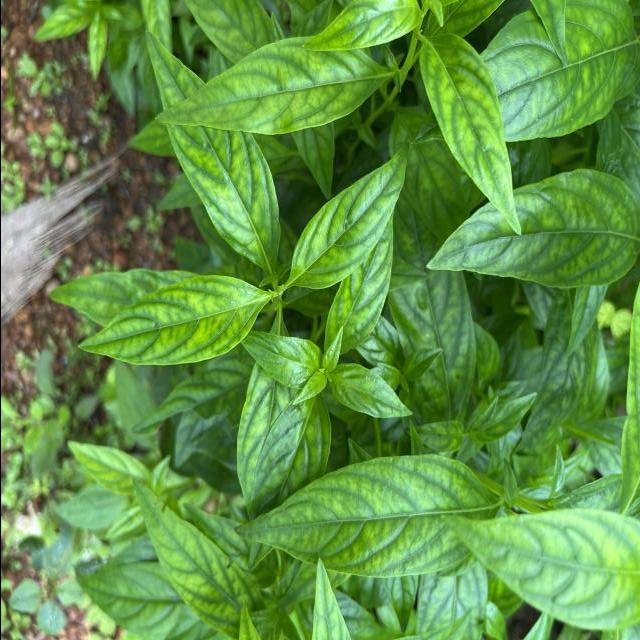Andrographis paniculata: (230, 449, 500, 584), (140, 28, 282, 275), (424, 166, 639, 290), (153, 34, 392, 138), (416, 32, 522, 240), (130, 476, 254, 636), (288, 138, 412, 291), (74, 274, 265, 368), (322, 210, 397, 352), (324, 362, 413, 420)
